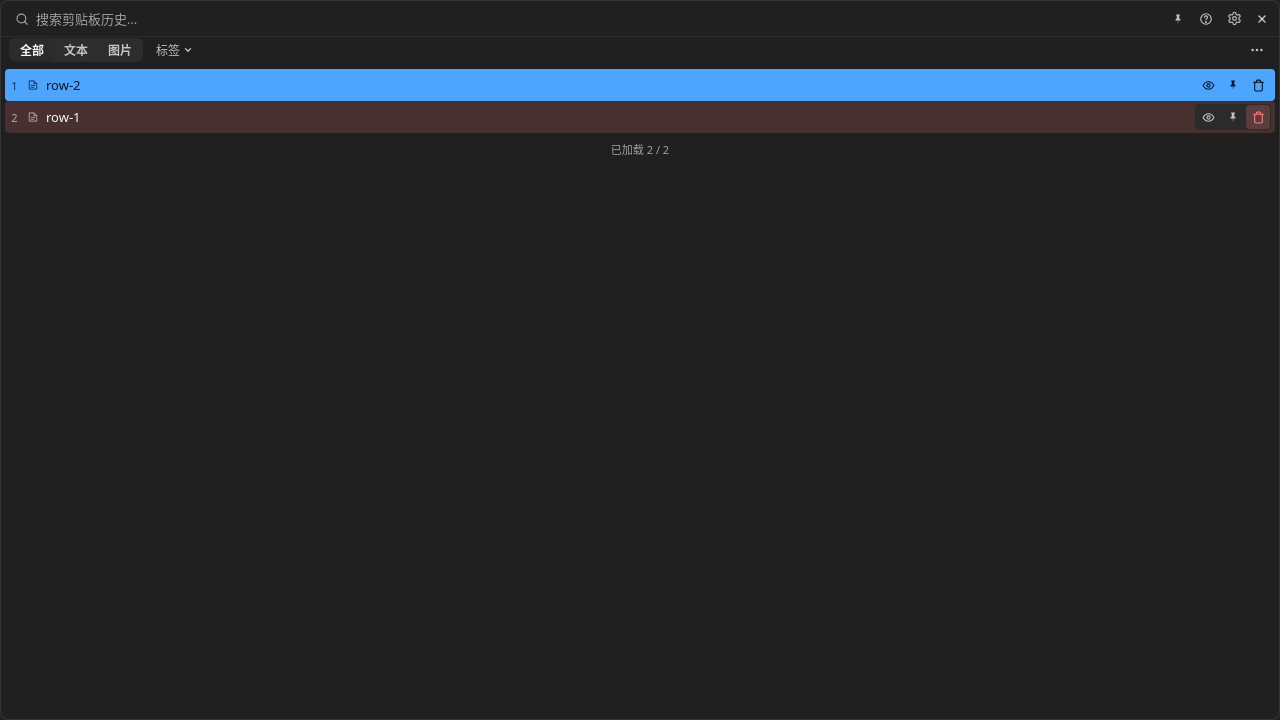
Scenario: live history list › does not subtract a deletion again after capture already supplied the total
Earlier steps of the test are not shown.
Click the button titled "再次点击删除" at (1258, 117), box [1246,105,1270,129]
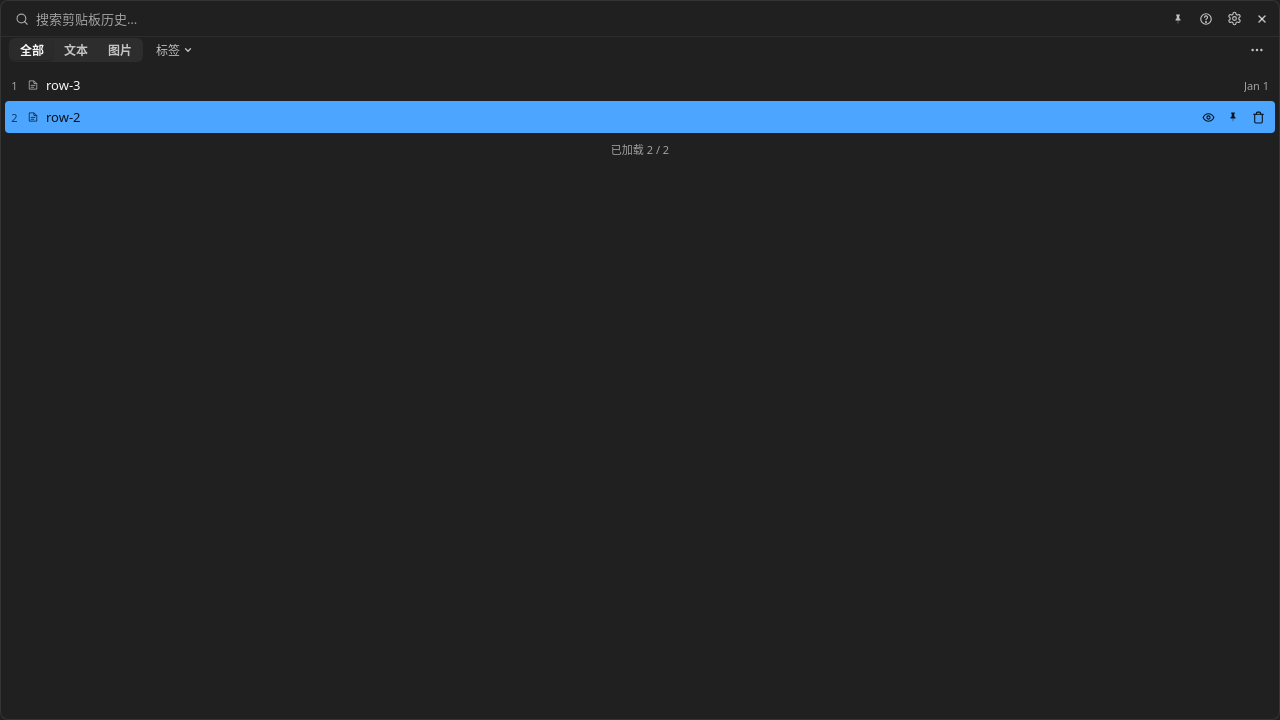
Check: the text "已加载 2 / 2" is shown, box [611,141,669,157]
Check: the option "row-1" is gone
